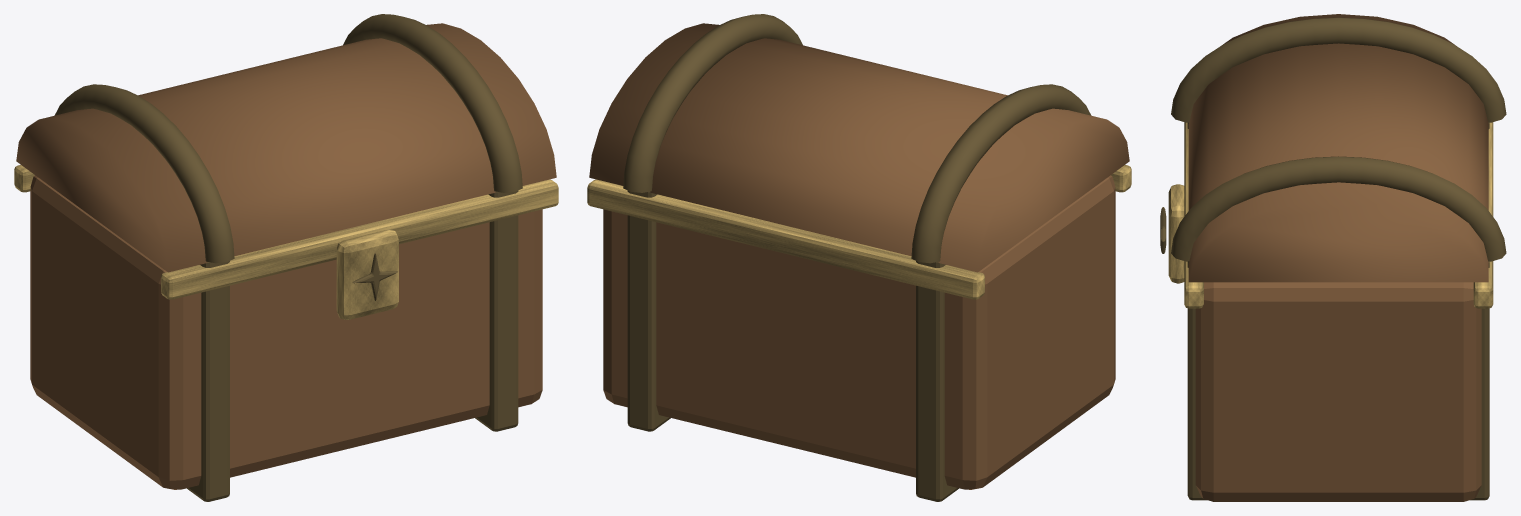
The model's file is chest.glb.
3 renders of one model, left to right at view 1: azimuth 30°, elevation 25°; view 2: azimuth 150°, elevation 25°; view 3: azimuth 270°, elevation 25°, orthographic.
Parts seen in each view (by area): view 1: Chest_body, Chest_rounded_lid, Chest_rim, Lid_brass_band, Lid_brass_band.001, Chest_band.001, Chest_band, Chest_latch; view 2: Chest_body, Chest_rounded_lid, Chest_rim.001, Lid_brass_band, Lid_brass_band.001, Chest_band.001, Chest_band; view 3: Chest_body, Chest_rounded_lid, Lid_brass_band, Lid_brass_band.001, Chest_band.001, Chest_latch, Chest_rim.001, Chest_rim.
Boxes of the visible parts, bbox=[...] form: Chest_body: bbox=[30, 175, 542, 489]; Chest_rounded_lid: bbox=[16, 23, 556, 272]; Chest_rim: bbox=[161, 179, 558, 299]; Lid_brass_band: bbox=[54, 84, 234, 263]; Lid_brass_band.001: bbox=[343, 14, 522, 192]; Chest_band.001: bbox=[475, 191, 518, 431]; Chest_band: bbox=[187, 261, 229, 501]; Chest_latch: bbox=[336, 230, 398, 319]; Chest_body: bbox=[603, 175, 1115, 489]; Chest_rounded_lid: bbox=[589, 23, 1129, 272]; Chest_rim.001: bbox=[587, 179, 984, 299]; Lid_brass_band: bbox=[911, 84, 1091, 263]; Lid_brass_band.001: bbox=[623, 14, 802, 192]; Chest_band.001: bbox=[627, 191, 670, 431]; Chest_band: bbox=[916, 261, 958, 501]; Chest_body: bbox=[1195, 282, 1481, 501]; Chest_rounded_lid: bbox=[1188, 14, 1488, 282]; Lid_brass_band: bbox=[1171, 17, 1506, 122]; Lid_brass_band.001: bbox=[1171, 156, 1506, 261]; Chest_band.001: bbox=[1187, 261, 1489, 500]; Chest_latch: bbox=[1168, 184, 1184, 283]; Chest_rim.001: bbox=[1473, 122, 1493, 308]; Chest_rim: bbox=[1184, 122, 1203, 308].
Bounding box in the file's own units: 1.25 × 1.05 × 0.9686.
Materials: 3 (1 with a texture image).
